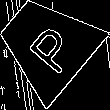P_NW: (15, 14, 77, 75)
